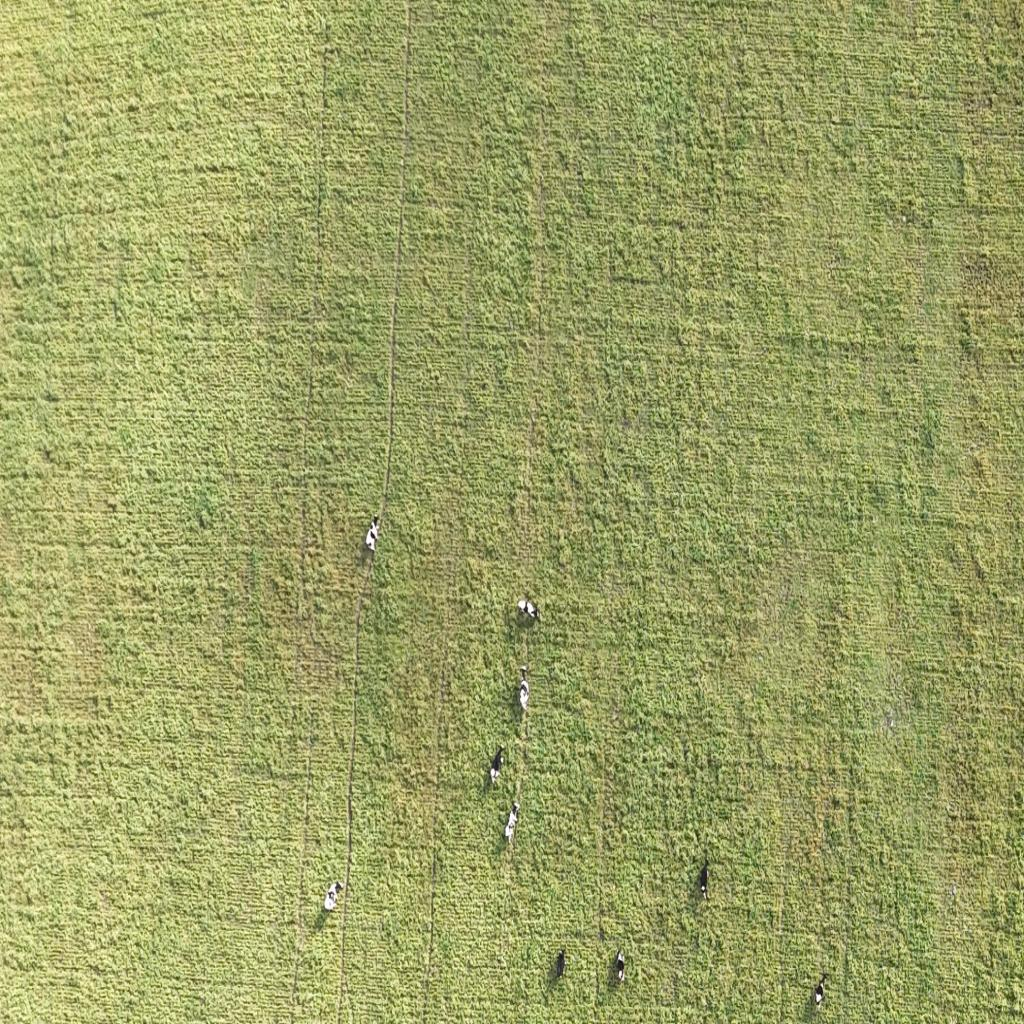cow: (517, 594, 540, 624), (505, 800, 521, 842), (518, 664, 530, 714), (490, 744, 505, 783), (366, 515, 381, 551), (324, 880, 342, 910), (814, 981, 826, 1010), (615, 949, 625, 983), (700, 868, 710, 900), (556, 949, 566, 978)
